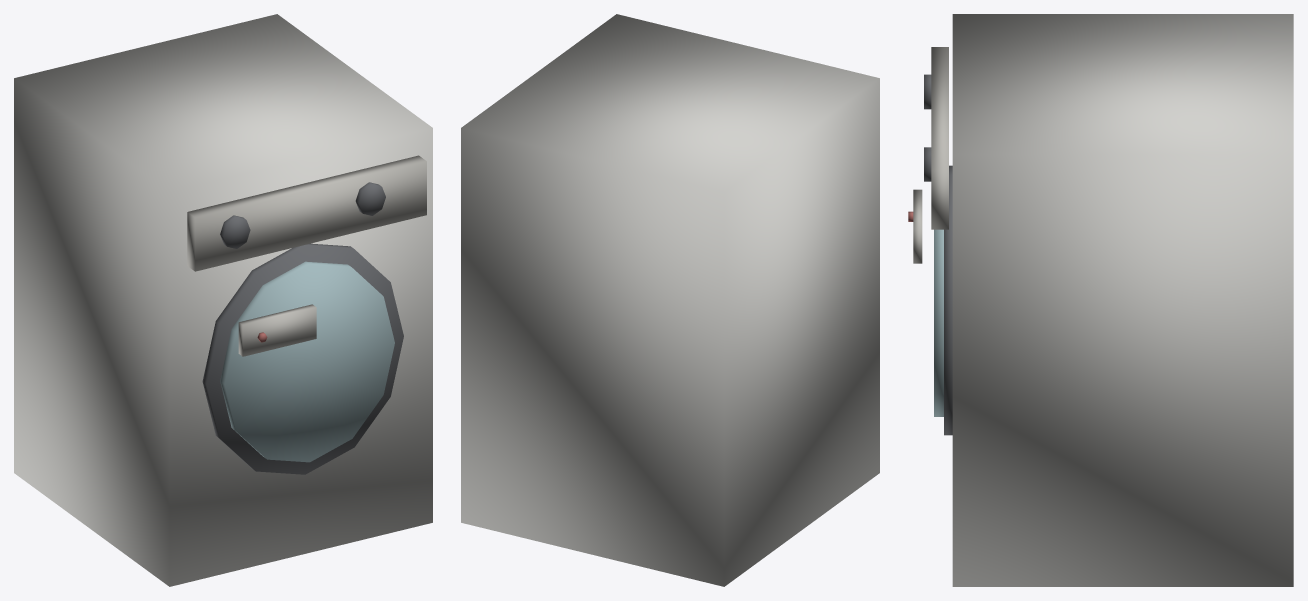
The model's file is domestic_dryer__compact.glb.
3 renders of one model, left to right at view 1: azimuth 30°, elevation 25°; view 2: azimuth 150°, elevation 25°; view 3: azimuth 270°, elevation 25°, orthographic. The views are drawn at different scales.
Visible parts, largest first — view 1: world; view 2: world; view 3: world.
Part boxes in pixels (x1=…): world: x1=14, y1=14, x2=432, y2=586; world: x1=461, y1=14, x2=879, y2=586; world: x1=908, y1=14, x2=1293, y2=586.
Bounding box in the file's own units: 0.5712 × 0.8184 × 0.6609.
